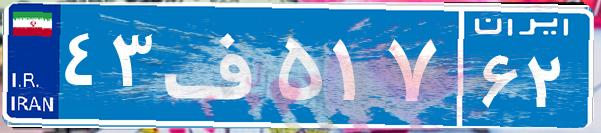1: (330, 28, 385, 110)
2: (525, 38, 570, 115)
3: (110, 28, 158, 105)
4: (57, 26, 110, 107)
5: (273, 28, 330, 110)
6: (475, 38, 525, 113)
7: (385, 28, 445, 110)
ف: (158, 15, 273, 115)
